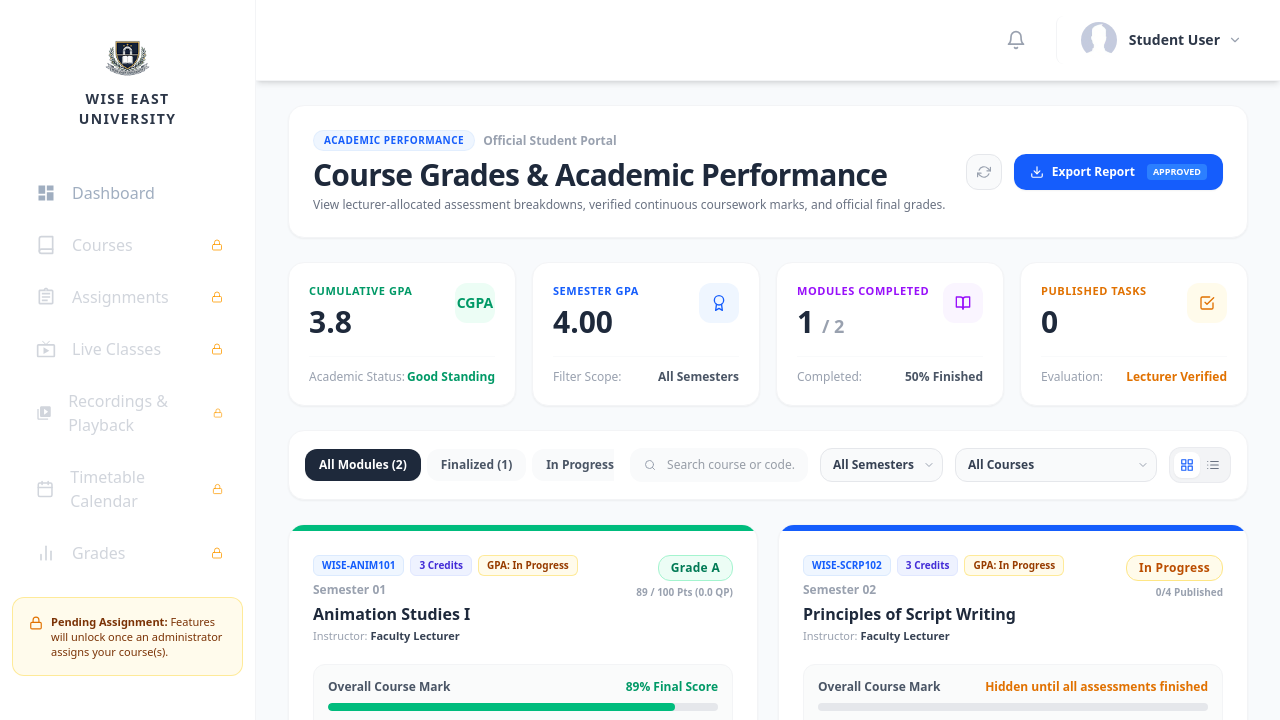
it: GradesPage component › filters grade entries when selecting semester
Expected: the heading "Animation Studies I" is shown, x1=313 y1=602 x2=470 y2=624
Select "Semester 01" in the 1st dropdown at (882, 464), box x1=820 y1=448 x2=943 y2=482
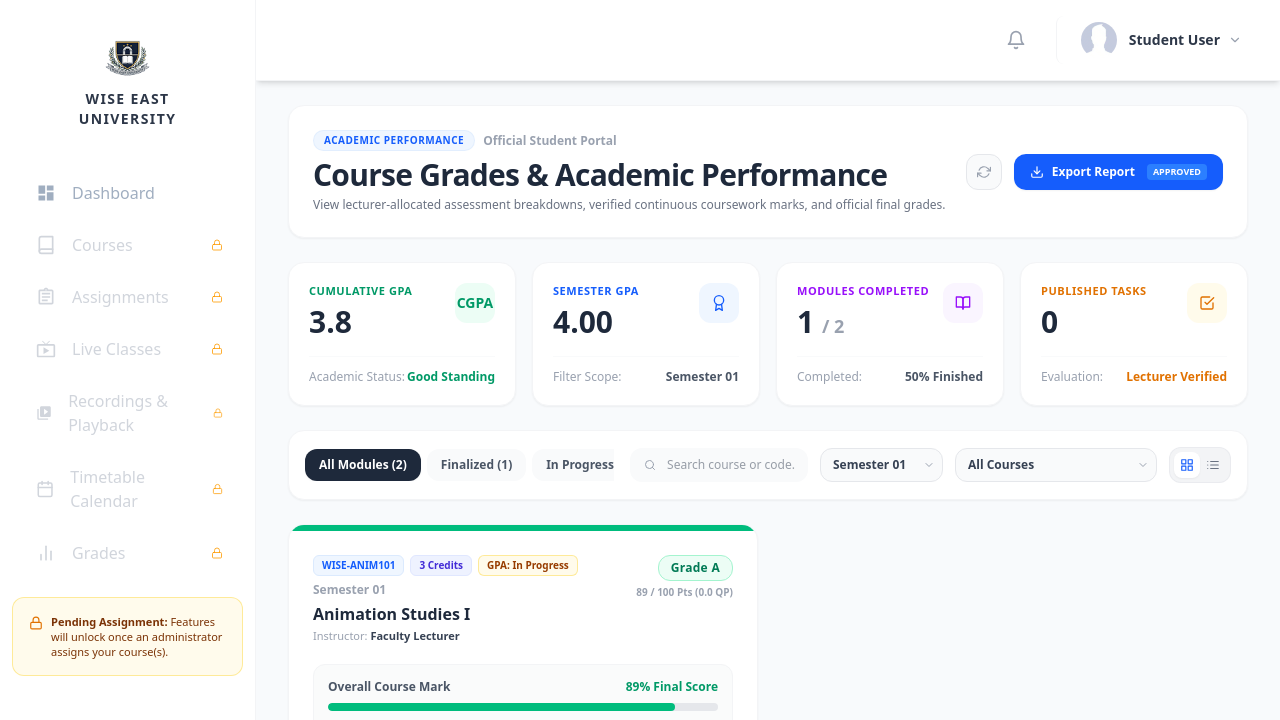
Expected: the heading "Animation Studies I" is shown, x1=313 y1=602 x2=470 y2=624
Now the heading "Principles of Script Writing" is gone
